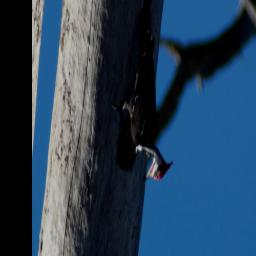Woodpecker: (105, 0, 188, 192)
